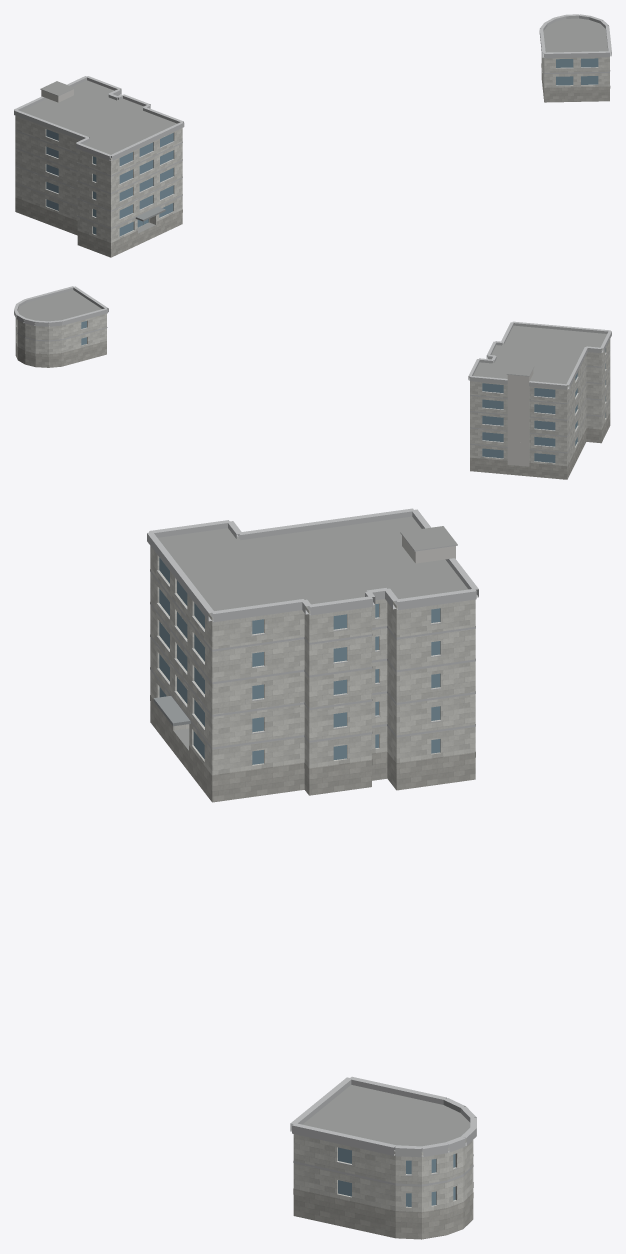
3 renders of one model, top to bottom at view 1: azimuth 30°, elevation 25°; view 2: azimuth 150°, elevation 25°; view 3: azimuth 270°, elevation 25°, orthographic. The views are drawn at different scales.
Parts seen in each view (by area): view 1: appliedEngAnnexW1__wall, appliedEngAnnexW1__roof, appliedEngAnnexW1__trim, appliedEngAnnexW1__base, appliedEngAnnexW1__glass; view 2: appliedEngAnnexW1__wall, appliedEngAnnexW1__roof, appliedEngAnnexW1__trim, appliedEngAnnexW1__base, appliedEngAnnexW1__glass, appliedEngAnnexW1__wall2; view 3: appliedEngAnnexW1__wall, appliedEngAnnexW1__roof, appliedEngAnnexW1__trim, appliedEngAnnexW1__base, appliedEngAnnexW1__glass.
Part boxes in pixels (x1=…): appliedEngAnnexW1__wall: x1=15, y1=53, x2=609, y2=245; appliedEngAnnexW1__roof: x1=21, y1=18, x2=607, y2=233; appliedEngAnnexW1__trim: x1=14, y1=14, x2=611, y2=229; appliedEngAnnexW1__base: x1=15, y1=63, x2=610, y2=257; appliedEngAnnexW1__glass: x1=46, y1=58, x2=598, y2=236; appliedEngAnnexW1__wall: x1=15, y1=313, x2=610, y2=468; appliedEngAnnexW1__roof: x1=18, y1=290, x2=606, y2=430; appliedEngAnnexW1__trim: x1=14, y1=286, x2=611, y2=453; appliedEngAnnexW1__base: x1=15, y1=341, x2=610, y2=479; appliedEngAnnexW1__glass: x1=81, y1=321, x2=605, y2=462; appliedEngAnnexW1__wall2: x1=507, y1=369, x2=533, y2=466; appliedEngAnnexW1__wall: x1=150, y1=546, x2=475, y2=1216; appliedEngAnnexW1__roof: x1=158, y1=516, x2=470, y2=1152; appliedEngAnnexW1__trim: x1=147, y1=508, x2=478, y2=1186; appliedEngAnnexW1__base: x1=150, y1=695, x2=475, y2=1239; appliedEngAnnexW1__glass: x1=159, y1=557, x2=455, y2=1206.
Bounding box in the file's own units: 134 × 24.31 × 35.06.
9 materials, 2 textured.
